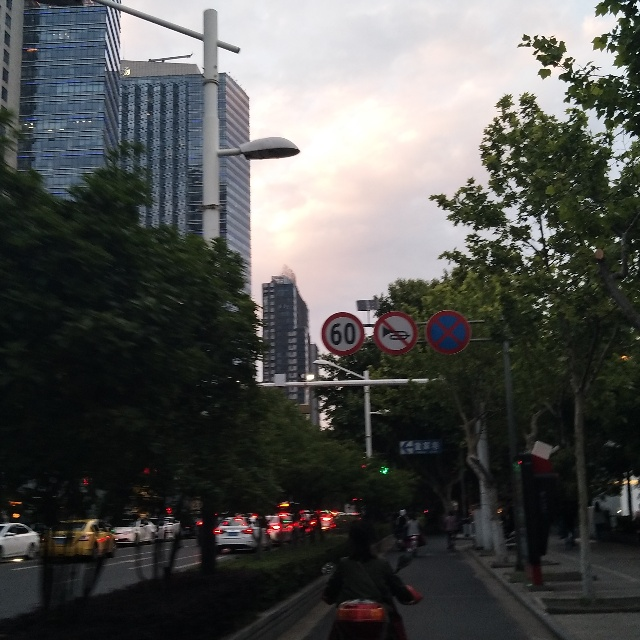nohonk: (374, 311, 418, 355)
stop: (425, 310, 471, 355)
